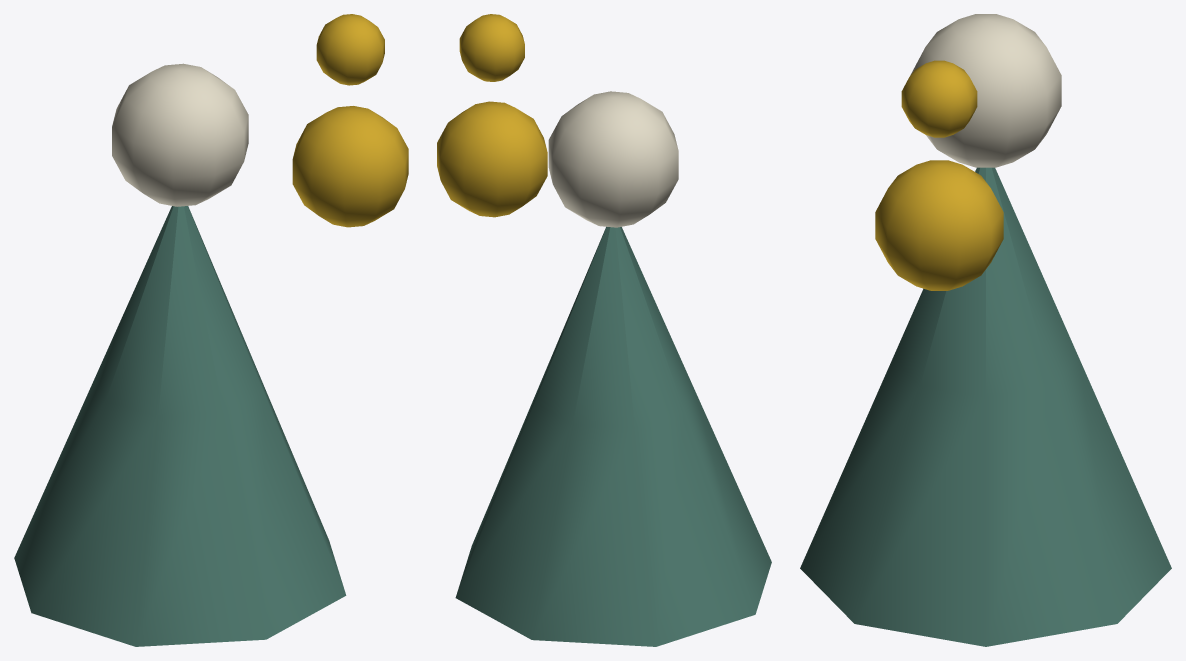
The model's file is fa_xiu.glb.
3 views of the same model, side by side, from view 1: azimuth 30°, elevation 25°; view 2: azimuth 150°, elevation 25°; view 3: azimuth 270°, elevation 25° (orthographic). The views are drawn at different scales.
Visible parts, largest first — view 1: _MeshInstance3D_10, _MeshInstance3D_11, _MeshInstance3D_12, _MeshInstance3D_13; view 2: _MeshInstance3D_10, _MeshInstance3D_11, _MeshInstance3D_12, _MeshInstance3D_13; view 3: _MeshInstance3D_10, _MeshInstance3D_11, _MeshInstance3D_12, _MeshInstance3D_13.
Part boxes in pixels (x1,y1,x2,y2): _MeshInstance3D_10: (14, 206, 346, 646); _MeshInstance3D_11: (112, 63, 248, 206); _MeshInstance3D_12: (292, 106, 408, 227); _MeshInstance3D_13: (316, 14, 384, 85); _MeshInstance3D_10: (455, 226, 771, 646); _MeshInstance3D_11: (548, 91, 678, 227); _MeshInstance3D_12: (437, 101, 547, 217); _MeshInstance3D_13: (459, 14, 524, 81); _MeshInstance3D_10: (800, 167, 1171, 646); _MeshInstance3D_11: (910, 14, 1061, 167); _MeshInstance3D_12: (875, 160, 1003, 290); _MeshInstance3D_13: (901, 60, 977, 137).
Bounding box in the file's own units: 0.5588 × 0.83 × 0.48.
